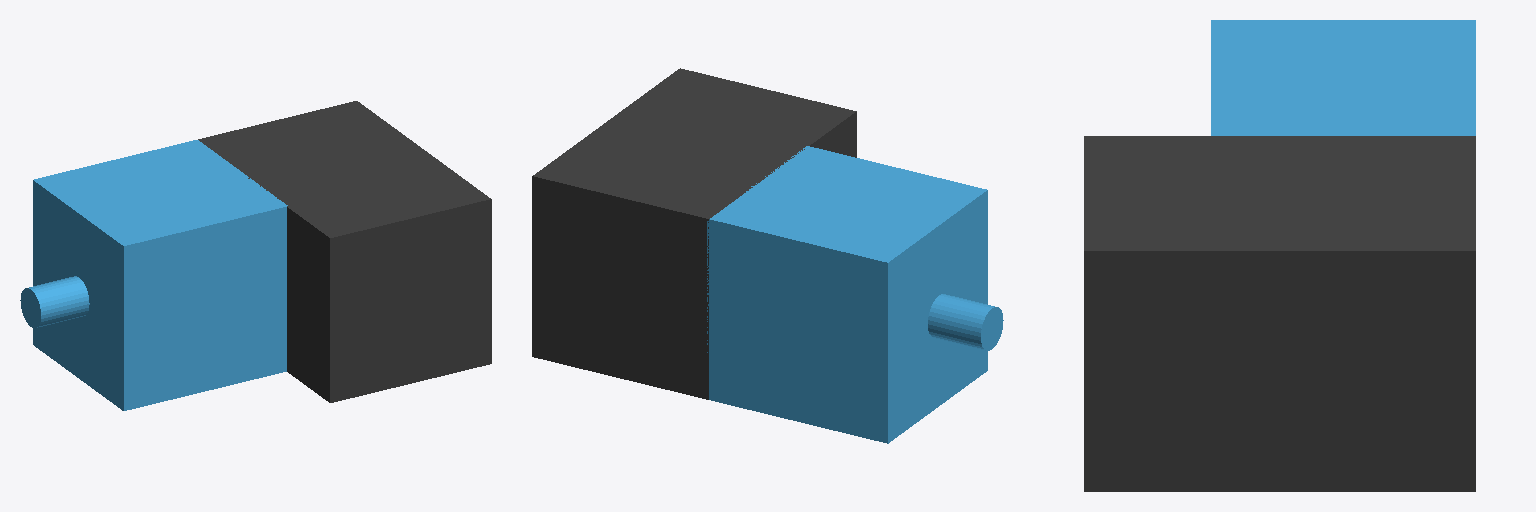
URDF robot description (origins):
<?xml version="1.0"?>
<robot name="origins">
  <material name="ptu_body_color">
    <color rgba="0.3 0.3 0.3 1.0" />
  </material>

  <link name="base_link">
  </link>

  <link name="ptu_base_link">
    <visual>
      <material name="ptu_body_color" />
      <geometry>
        <box size="0.045 0.065 0.044" />
      </geometry>
      <origin xyz="0 0.011 0.022" />
    </visual>
    <visual>
      <geometry>
        <box size="0.046 0.044 0.044" />
      </geometry>
      <origin xyz="-0.045 0.0215 0.022" />
    </visual>
    <visual>
      <geometry>
        <cylinder length="0.015" radius="0.005" />
      </geometry>
      <origin xyz="-0.074 0.021 0.022" rpy="0 1.57 0" />
    </visual>
  </link>

  <joint name="base_to_ptu_base" type="fixed">
    <parent link="base_link"/>
    <child link="ptu_base_link"/>
    <origin xyz="0 0 0"/>
  </joint>
</robot>

--- Render facts (derived) ---
The picture shows the robot from 3 angles, left to right: view 1: azimuth 30°, elevation 25°; view 2: azimuth 150°, elevation 25°; view 3: azimuth 270°, elevation 25°; orthographic projection.
Model origins with 2 links and 1 joints (1 fixed), rooted at base_link, posed every joint at zero.
Links seen in each view (by area): view 1: ptu_base_link; view 2: ptu_base_link; view 3: ptu_base_link.
Boxes of the visible links, x1,y1,x2,y2 form: ptu_base_link: (20, 101, 491, 410); ptu_base_link: (532, 68, 1003, 443); ptu_base_link: (1084, 20, 1475, 491).
Bounding box of the posed robot: 0.104 × 0.065 × 0.044 m (x, y, z).
Geometry: primitives only (box / cylinder / sphere), no mesh files.